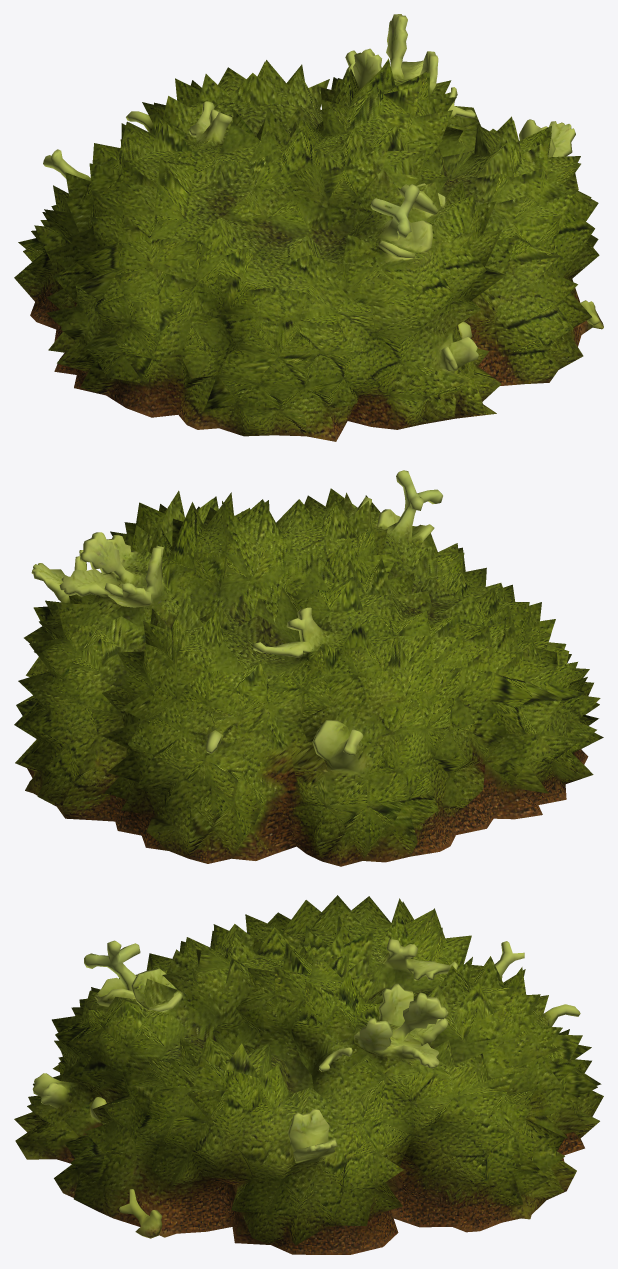
The model's file is resource-moss.glb.
3 views of the same model, one above another, from view 1: azimuth 30°, elevation 25°; view 2: azimuth 150°, elevation 25°; view 3: azimuth 270°, elevation 25° (orthographic). The views are drawn at different scales.
Visible parts, largest first — view 1: tripo_node_596576c3-7b85-427e-9461-8e765436f84b; view 2: tripo_node_596576c3-7b85-427e-9461-8e765436f84b; view 3: tripo_node_596576c3-7b85-427e-9461-8e765436f84b.
Part boxes in pixels (x1,y1,x2,y2): tripo_node_596576c3-7b85-427e-9461-8e765436f84b: (14,14,603,441); tripo_node_596576c3-7b85-427e-9461-8e765436f84b: (14,470,603,866); tripo_node_596576c3-7b85-427e-9461-8e765436f84b: (14,895,603,1254).
Size of the model in its own units: 0.998 by 0.416 by 0.9863.
1 material, 1 textured.
